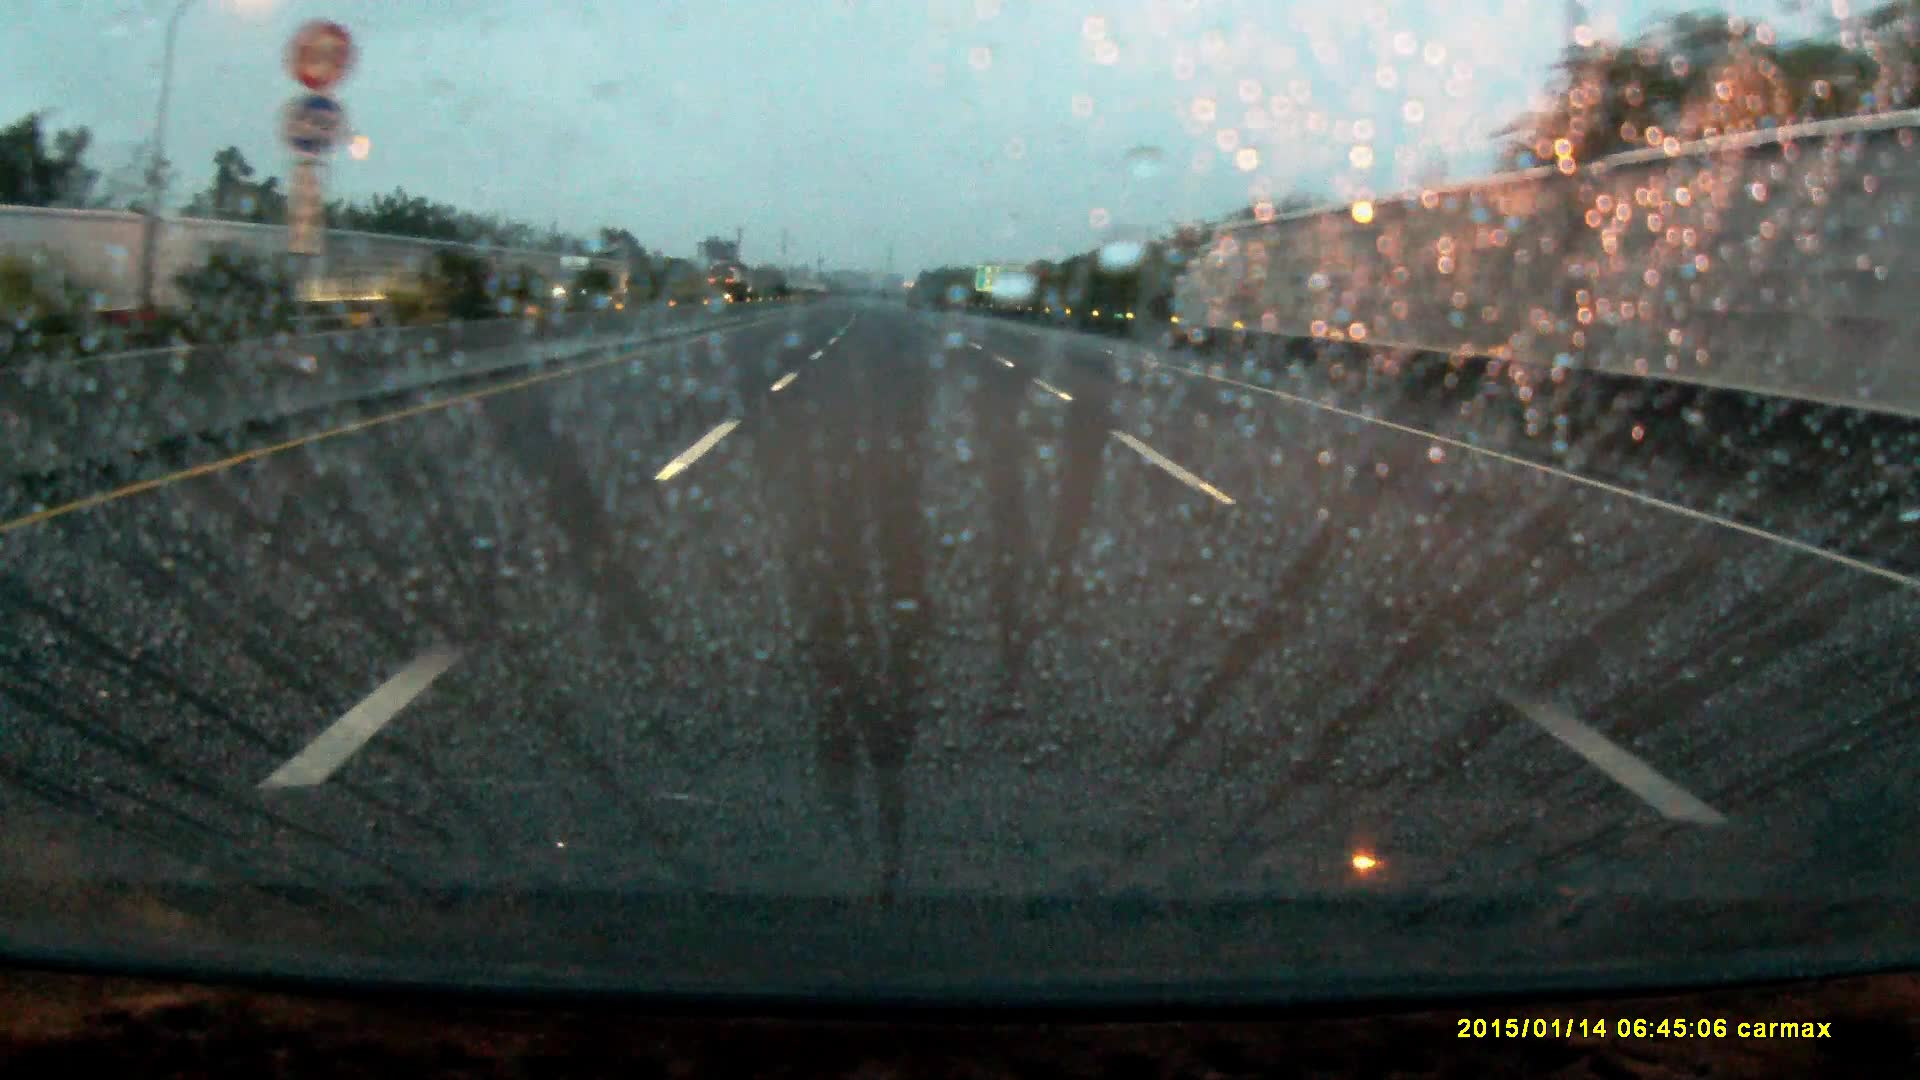vehicle: (551, 256, 617, 303), (705, 273, 742, 307)
